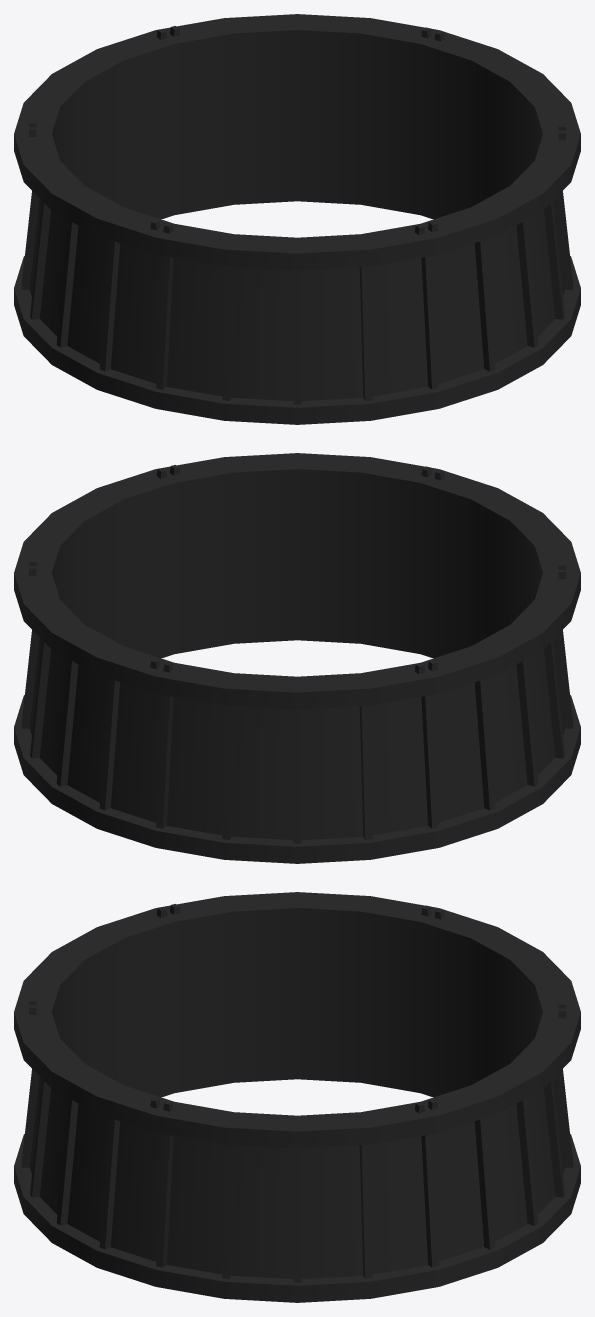
File: sargas_docking_mechanism_s1p5_2.obj
The picture shows the model from 3 angles, top to bottom: view 1: azimuth 30°, elevation 25°; view 2: azimuth 150°, elevation 25°; view 3: azimuth 270°, elevation 25°; orthographic projection.
Visible parts, largest first — view 1: sargas_docking_mechanism_s1p5_2; view 2: sargas_docking_mechanism_s1p5_2; view 3: sargas_docking_mechanism_s1p5_2.
Boxes of the visible parts, x1,y1,x2,y2 form: sargas_docking_mechanism_s1p5_2: (14, 14, 580, 424); sargas_docking_mechanism_s1p5_2: (14, 453, 580, 863); sargas_docking_mechanism_s1p5_2: (14, 892, 580, 1302).
Bounding box in the file's own units: 1.88 × 0.65 × 1.88.
